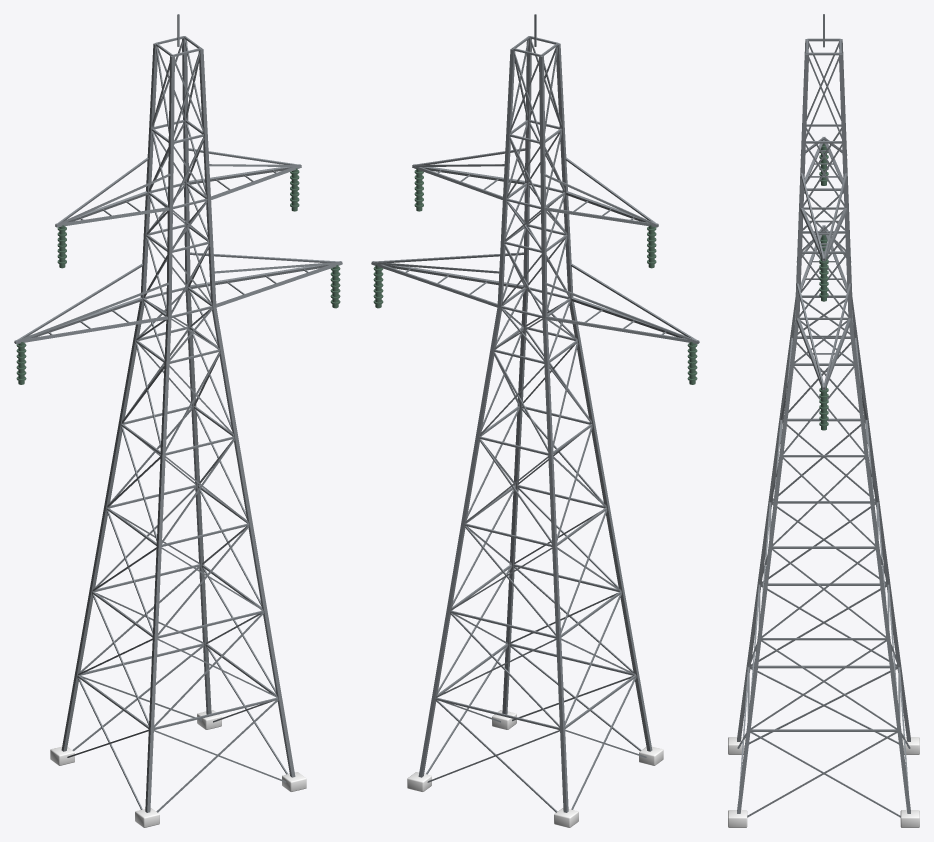
The model's file is pylon.glb.
3 renders of one model, left to right at view 1: azimuth 30°, elevation 25°; view 2: azimuth 150°, elevation 25°; view 3: azimuth 270°, elevation 25°, orthographic.
Parts seen in each view (by area): view 1: pylon_M_Galv, pylon_T_concrete, pylon_M_Insulator; view 2: pylon_M_Galv, pylon_T_concrete, pylon_M_Insulator; view 3: pylon_M_Galv, pylon_T_concrete, pylon_M_Insulator.
Boxes of the visible parts, bbox=[...] form: pylon_M_Galv: bbox=[14, 14, 342, 812]; pylon_T_concrete: bbox=[50, 710, 306, 827]; pylon_M_Insulator: bbox=[16, 168, 340, 384]; pylon_M_Galv: bbox=[371, 14, 699, 812]; pylon_T_concrete: bbox=[407, 710, 663, 827]; pylon_M_Insulator: bbox=[373, 168, 697, 384]; pylon_M_Galv: bbox=[737, 14, 910, 817]; pylon_T_concrete: bbox=[728, 737, 919, 827]; pylon_M_Insulator: bbox=[819, 143, 828, 430].
Size of the model in its own units: 16.03 by 35.6 by 8.
